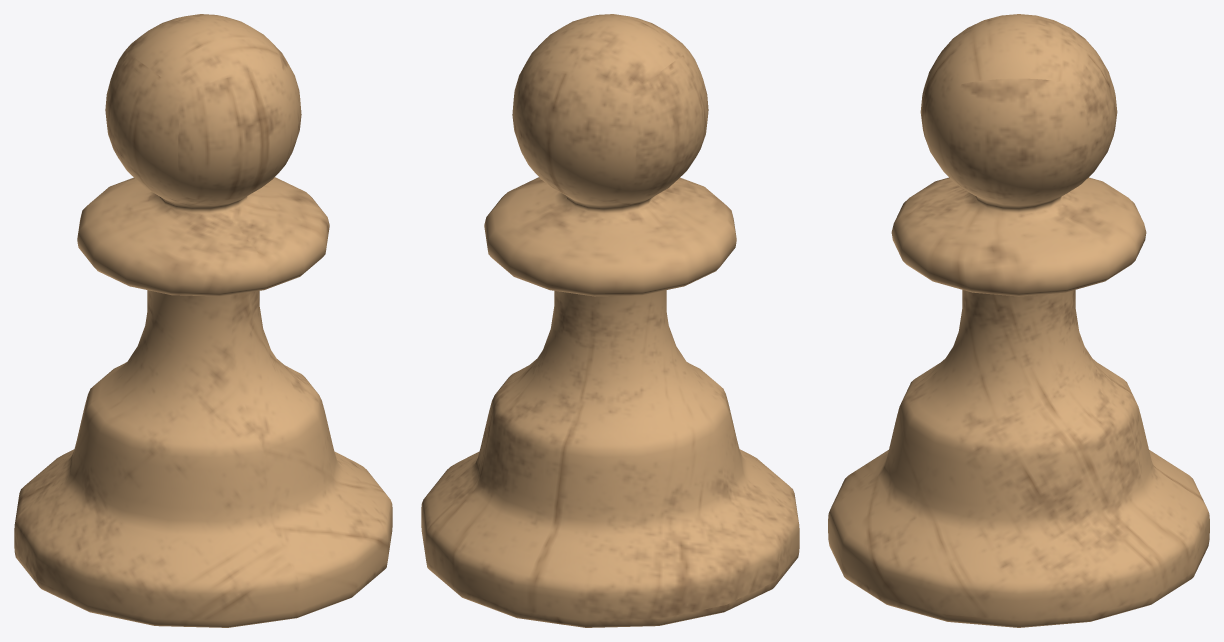
The model's file is GEO_WhitePawn_08.gltf.
The picture shows the model from 3 angles, left to right: view 1: azimuth 30°, elevation 25°; view 2: azimuth 150°, elevation 25°; view 3: azimuth 270°, elevation 25°; orthographic projection.
Visible parts, largest first — view 1: GEO_WhitePawn_08; view 2: GEO_WhitePawn_08; view 3: GEO_WhitePawn_08.
Part boxes in pixels (<box>): GEO_WhitePawn_08: <box>14,14,392,627</box>; GEO_WhitePawn_08: <box>421,14,799,627</box>; GEO_WhitePawn_08: <box>828,14,1209,627</box>.
Bounding box in the file's own units: 0.034 × 0.0518 × 0.034.
